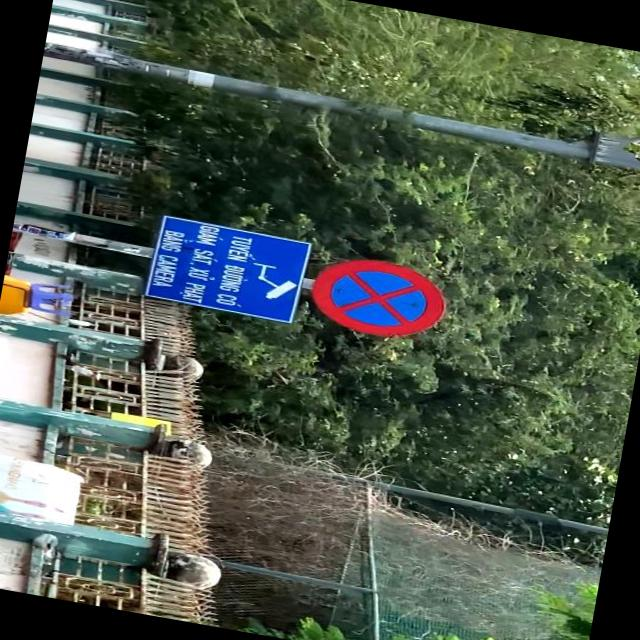P-130: (309, 252, 449, 344)
